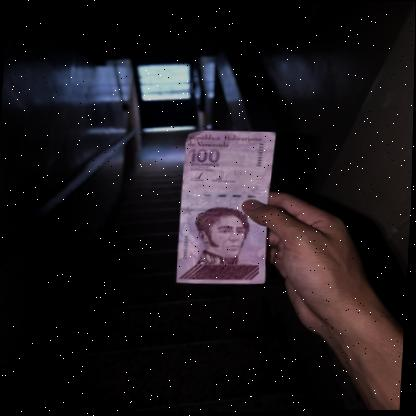one_hundred-front-vef: (175, 128, 278, 288)
